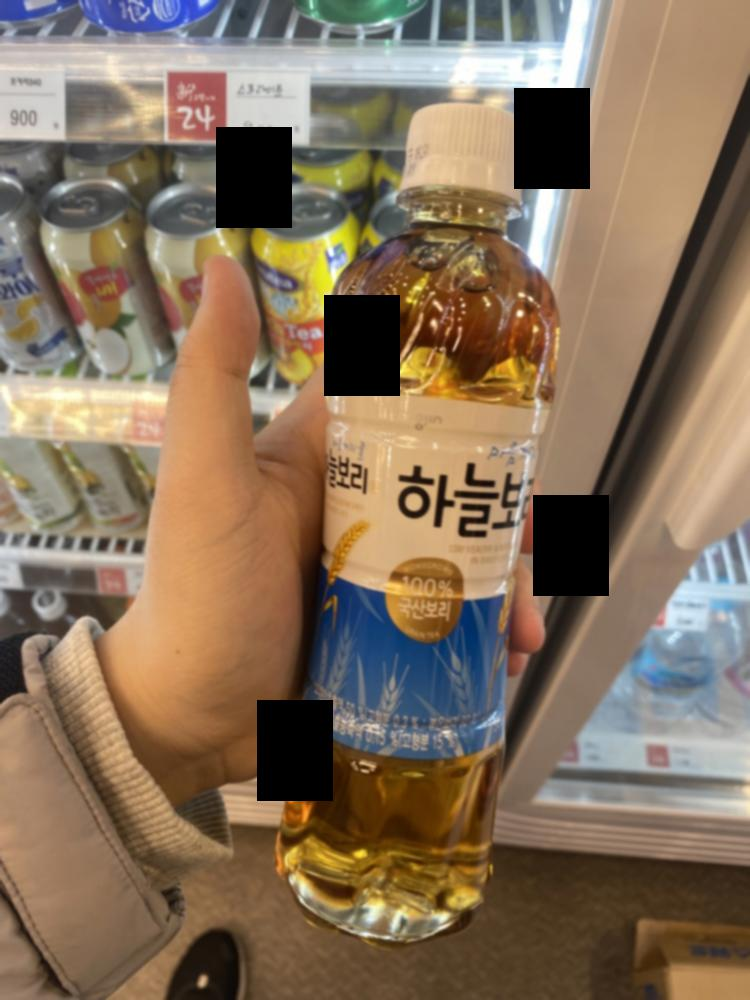haneulbori: (293, 90, 539, 937)
